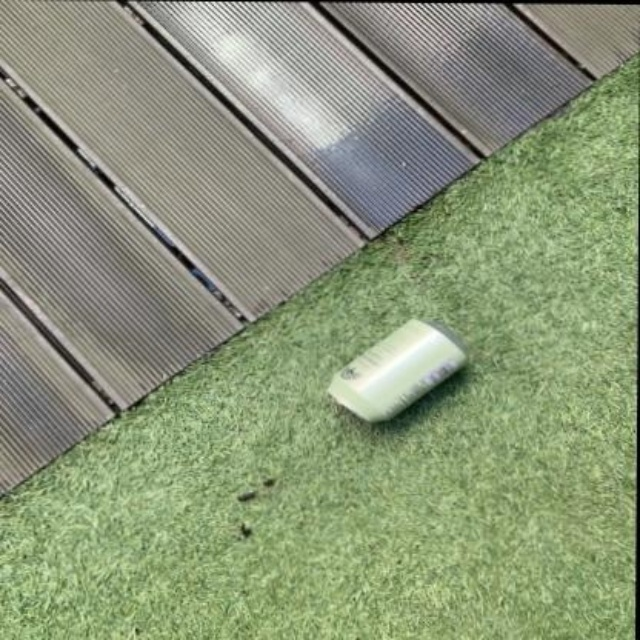trash: (328, 320, 466, 420)
